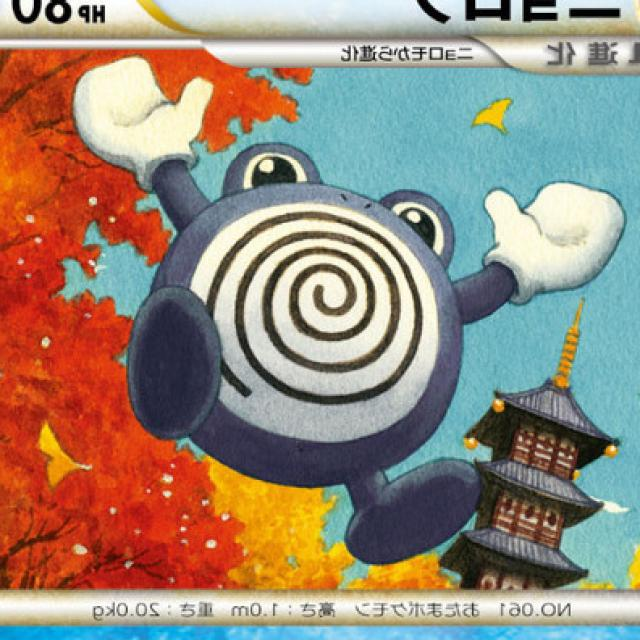Poliwhirl: (117, 83, 602, 480)
